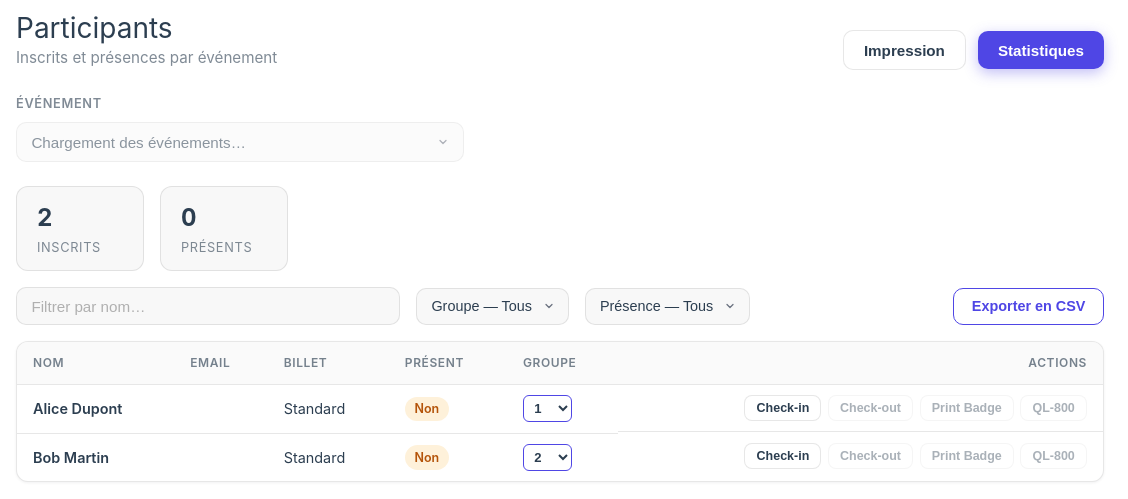
DashboardView › filtre par groupe de travail
The width and height of the screenshot is (1128, 499).
Select "Groupe 1" in the dropdown named "Filtrer par groupe" at (492, 306), box x1=416 y1=288 x2=569 y2=325
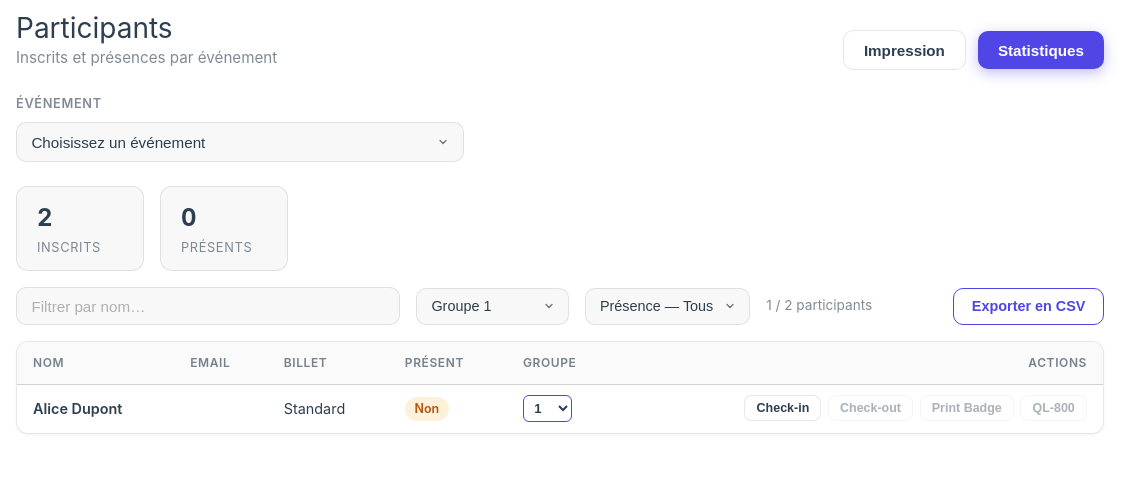
Expected: the text "Alice Dupont" is shown, x1=17 y1=384 x2=174 y2=433
Result: the text "Bob Martin" is gone
